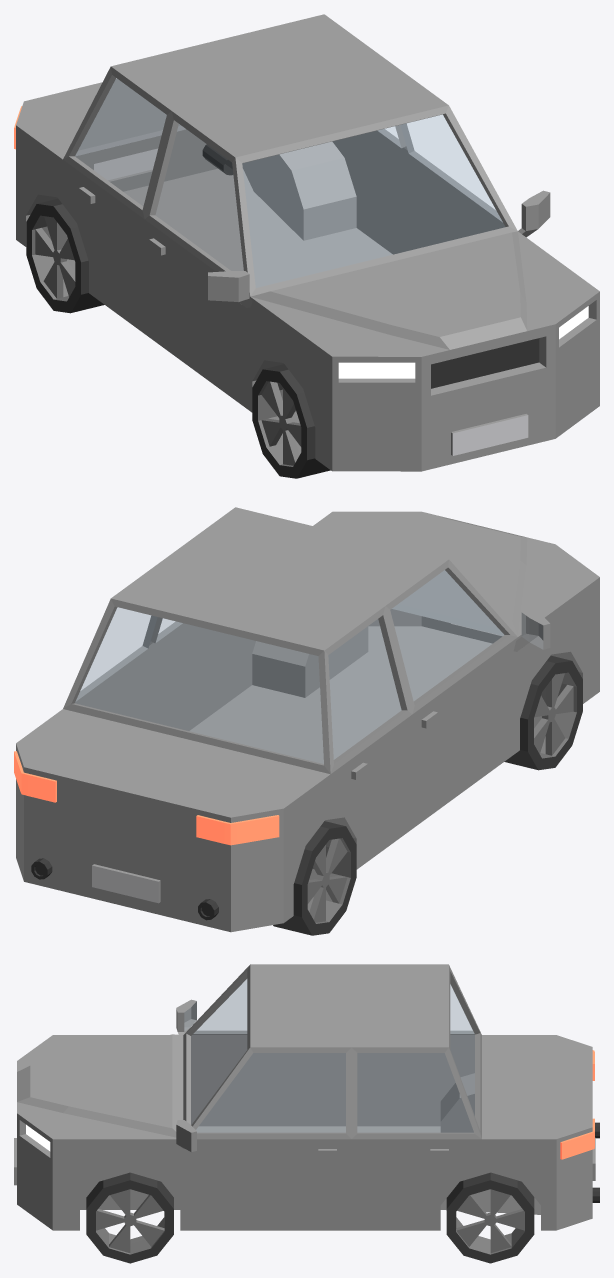
The model's file is sedan.glb.
The picture shows the model from 3 angles, top to bottom: view 1: azimuth 30°, elevation 25°; view 2: azimuth 150°, elevation 25°; view 3: azimuth 270°, elevation 25°; orthographic projection. The views are drawn at different scales.
Parts seen in each view (by area): view 1: Sedan, Sedan wheel front right, Sedan wheel rear right; view 2: Sedan, Sedan wheel rear right, Sedan wheel front right; view 3: Sedan, Sedan wheel rear left, Sedan wheel front left.
Part boxes in pixels (x1,y1,x2,y2): Sedan: (14,14,599,471); Sedan wheel front right: (252,364,330,478); Sedan wheel rear right: (26,198,104,313); Sedan: (14,507,599,932); Sedan wheel rear right: (273,821,356,935); Sedan wheel front right: (504,655,582,770); Sedan: (14,964,599,1230); Sedan wheel rear left: (446,1172,534,1263); Sedan wheel front left: (86,1172,173,1263).
Bounding box in the file's own units: 2.81 × 2.01 × 5.23.
